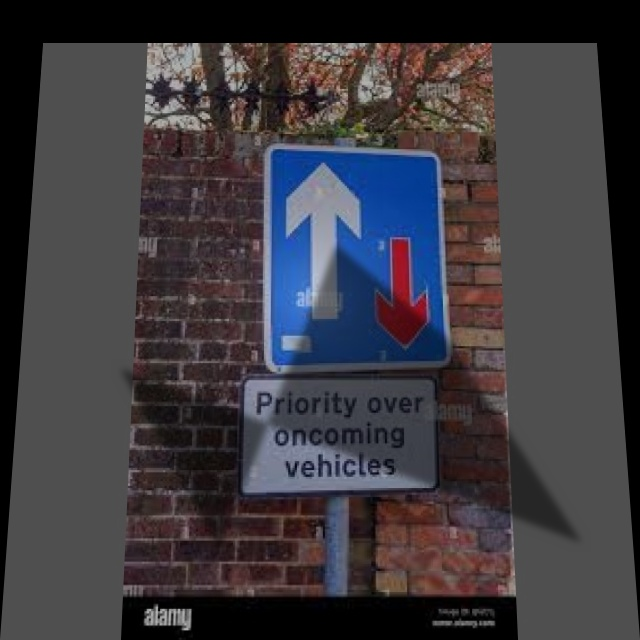Priority_for_Oncoming_Traffic: (271, 150, 448, 364)
